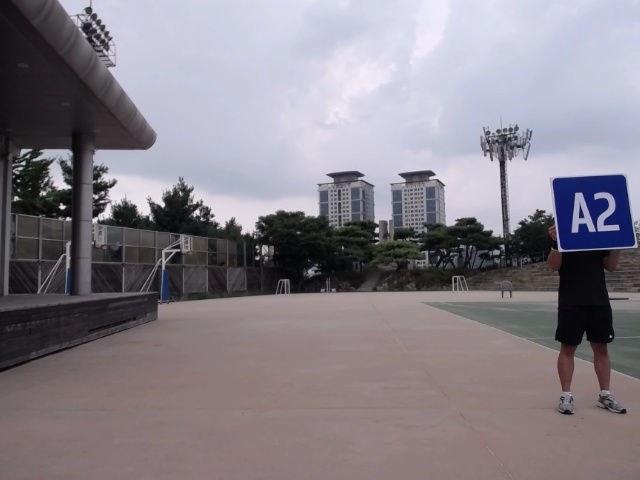delivery_a2: (553, 174, 636, 251)
